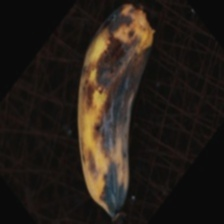banana: (20, 49, 209, 216)
